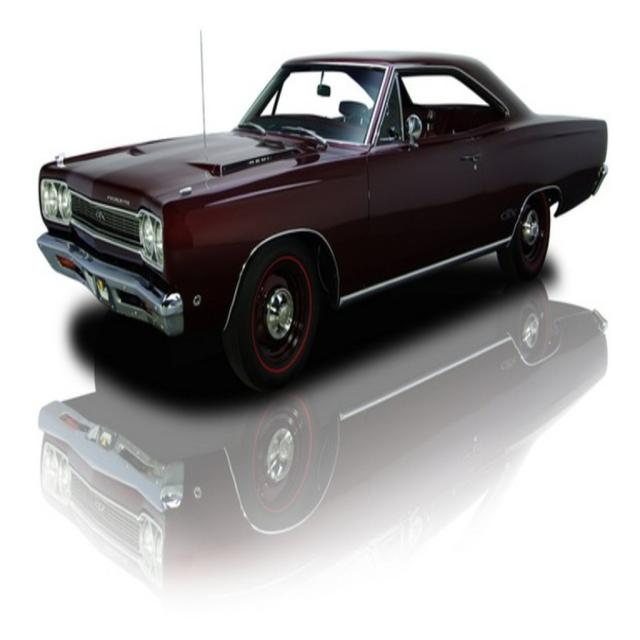car: (33, 42, 607, 383)
